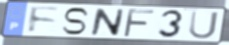3: (155, 9, 187, 40)
F: (121, 8, 156, 38), (28, 5, 61, 35)
N: (89, 8, 126, 37)
S: (60, 7, 91, 36)
U: (187, 10, 220, 40)
